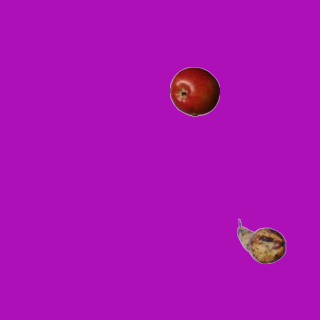Apple Braeburn: (169, 66, 219, 116)
Pear Abate: (236, 216, 286, 266)
